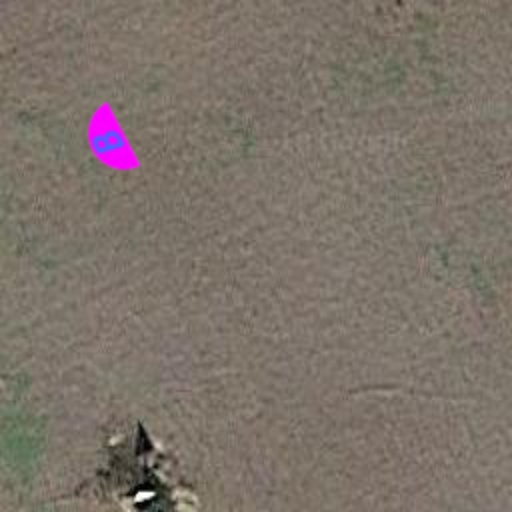semicircle: (58, 92, 158, 192)
